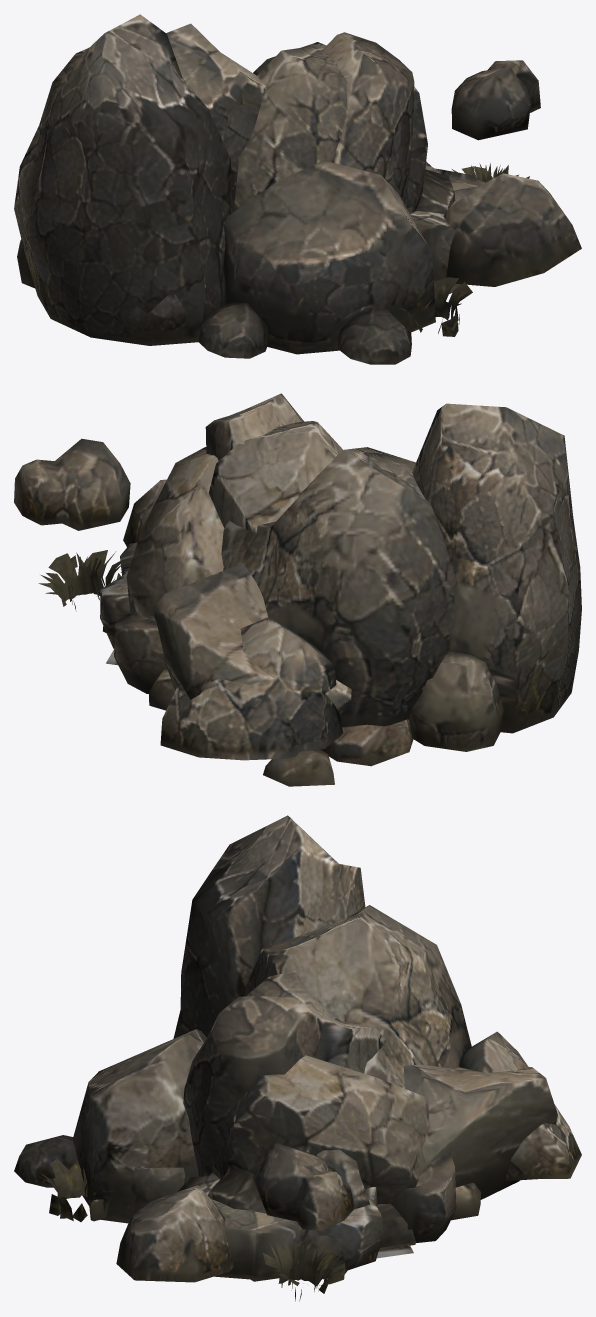
The model's file is kit-moor-rocks.glb.
The picture shows the model from 3 angles, top to bottom: view 1: azimuth 30°, elevation 25°; view 2: azimuth 150°, elevation 25°; view 3: azimuth 270°, elevation 25°; orthographic projection. The views are drawn at different scales.
Visible parts, largest first — view 1: rock_07_tall, rock_09_cluster, rock_02_standard_front, rock_03_standard_side, rock_01_standard, rock_08_ledge, rock_04_standard_top; view 2: rock_09_cluster, rock_07_tall, rock_04_standard_top, rock_01_standard, rock_02_standard_front, rock_08_ledge, rock_03_standard_side; view 3: rock_09_cluster, rock_07_tall, rock_01_standard, rock_04_standard_top, rock_08_ledge, rock_03_standard_side, rock_02_standard_front.
Part boxes in pixels (box(x1,y1,x2,y2)): rock_07_tall: box(14, 14, 540, 345); rock_09_cluster: box(125, 23, 581, 364); rock_02_standard_front: box(234, 42, 347, 209); rock_03_standard_side: box(322, 32, 414, 203); rock_01_standard: box(405, 87, 460, 298); rock_08_ledge: box(410, 162, 529, 280); rock_04_standard_top: box(397, 277, 472, 336); rock_09_cluster: box(123, 447, 455, 760); rock_07_tall: box(14, 403, 581, 751); rock_04_standard_top: box(117, 563, 413, 786); rock_01_standard: box(106, 447, 224, 710); rock_02_standard_front: box(103, 421, 342, 632); rock_08_ledge: box(38, 542, 409, 719); rock_03_standard_side: box(205, 393, 303, 460); rock_09_cluster: box(14, 905, 581, 1282); rock_07_tall: box(173, 815, 365, 1230); rock_01_standard: box(208, 1055, 481, 1258); rock_04_standard_top: box(40, 1064, 557, 1247); rock_08_ledge: box(131, 1152, 456, 1301); rock_03_standard_side: box(183, 996, 322, 1176); rock_02_standard_front: box(247, 971, 386, 1279).
Bounding box in the file's own units: 5.51 × 2.86 × 5.17.
1 material, 1 textured.
